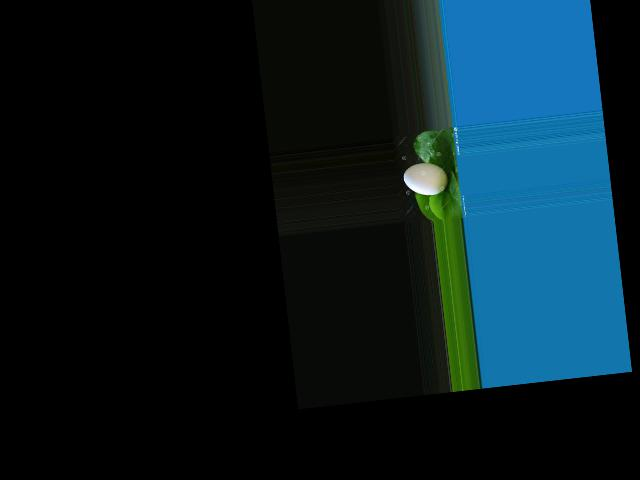egg: (402, 160, 449, 198)
